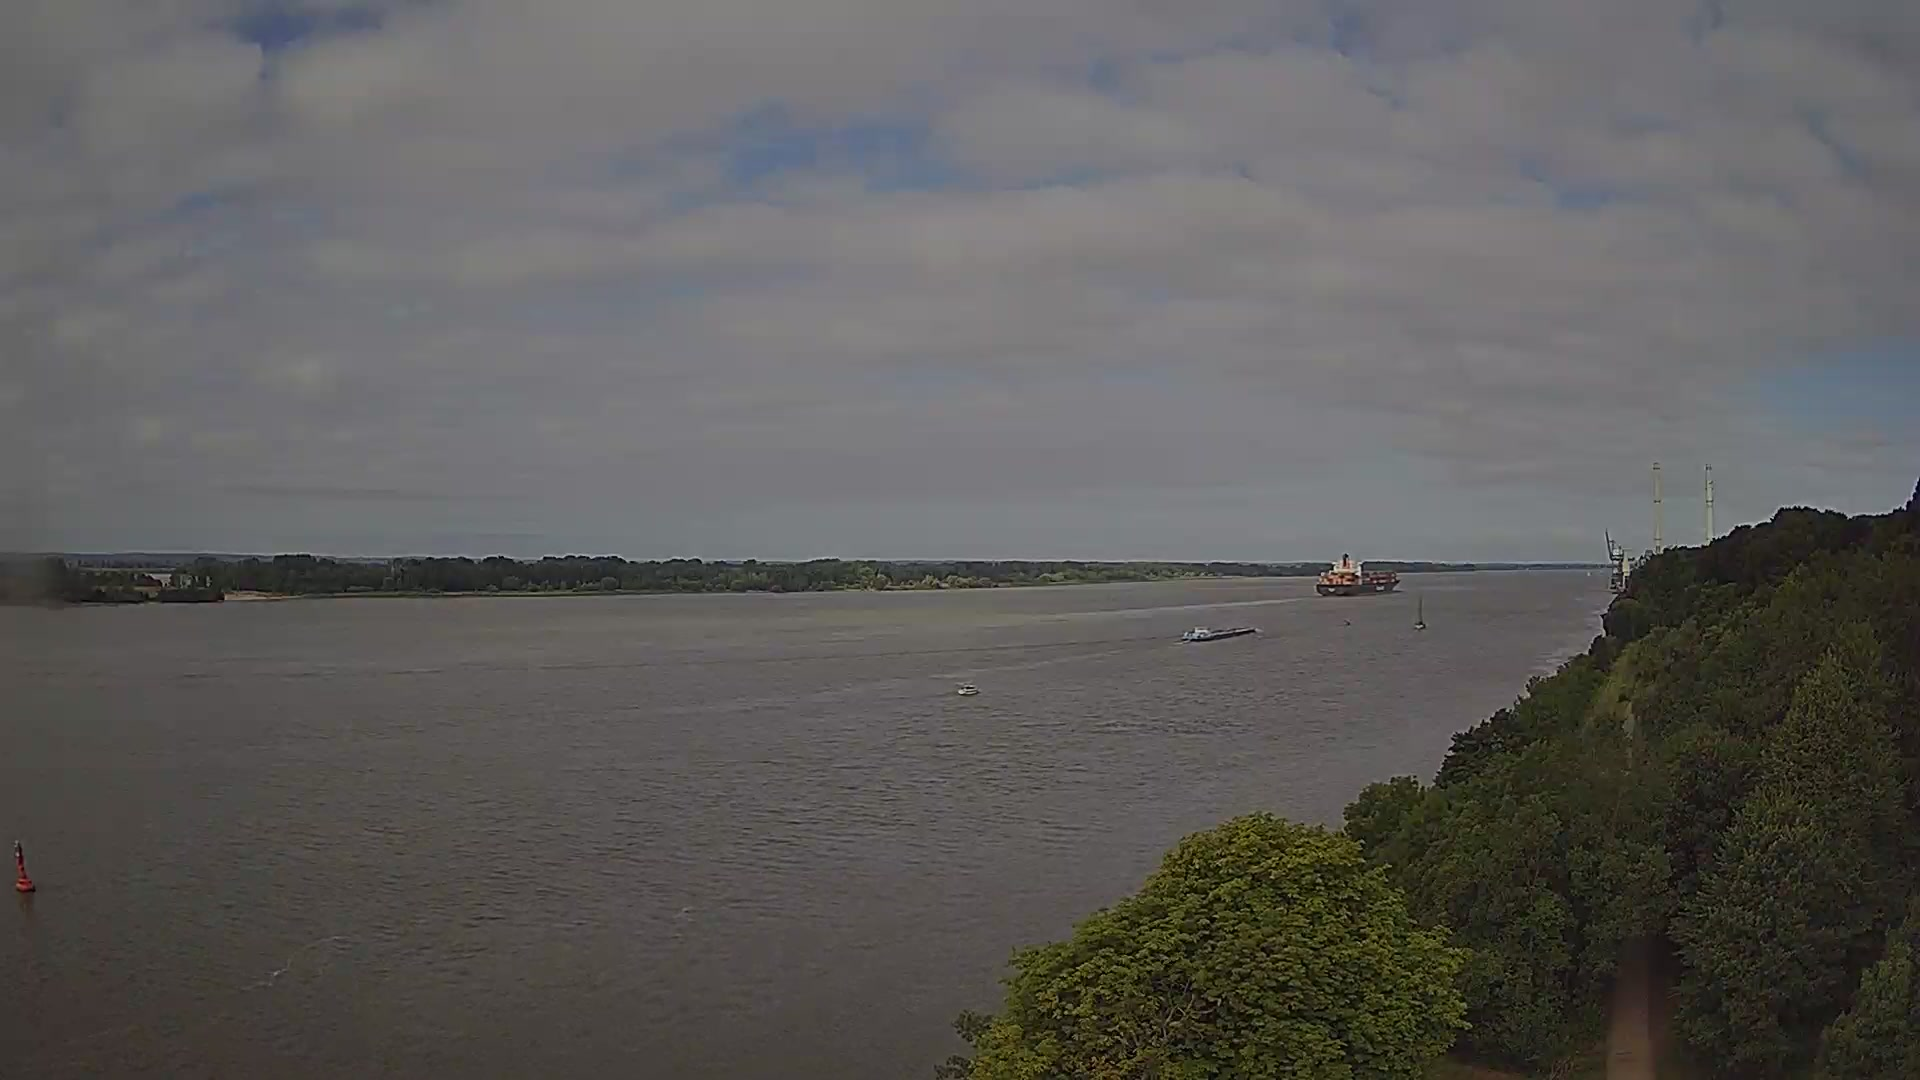sea: (1315, 553, 1400, 596), (1182, 624, 1261, 642), (1412, 595, 1425, 629), (955, 682, 978, 696), (1586, 570, 1592, 576)
